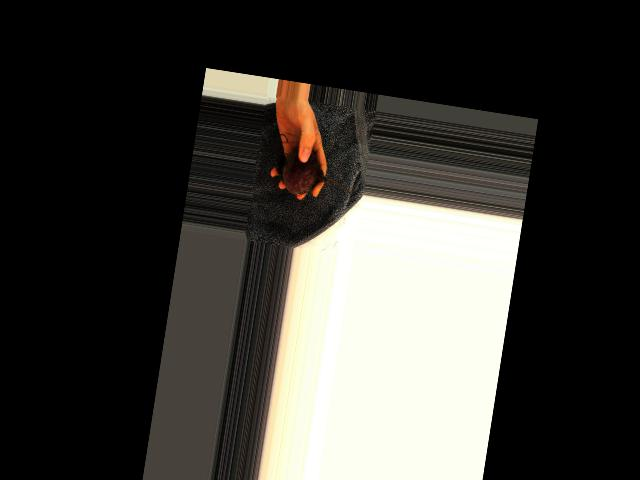beet: (274, 144, 358, 203)
